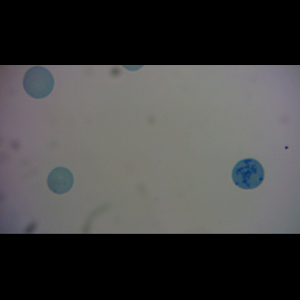aggregate reticulocyte: (230, 157, 266, 191)
erythrocyte: (22, 65, 55, 100)
punctate reticulocyte: (46, 166, 75, 196)
